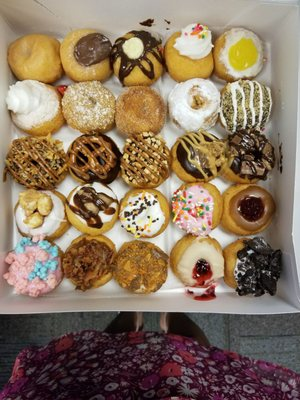salad: (1, 238, 64, 298), (5, 135, 72, 190), (222, 236, 282, 297), (6, 80, 65, 137), (219, 128, 275, 185), (61, 80, 117, 135), (110, 30, 164, 87), (171, 130, 228, 184), (218, 79, 272, 135), (169, 234, 225, 288), (113, 240, 169, 294), (62, 235, 116, 291), (13, 189, 70, 242), (119, 132, 172, 189), (164, 23, 215, 82), (221, 182, 276, 236), (167, 78, 221, 133), (213, 27, 267, 82), (65, 182, 119, 236), (60, 29, 113, 83), (7, 33, 63, 84), (171, 182, 223, 236), (115, 86, 167, 138), (118, 188, 171, 239), (68, 134, 121, 184)
